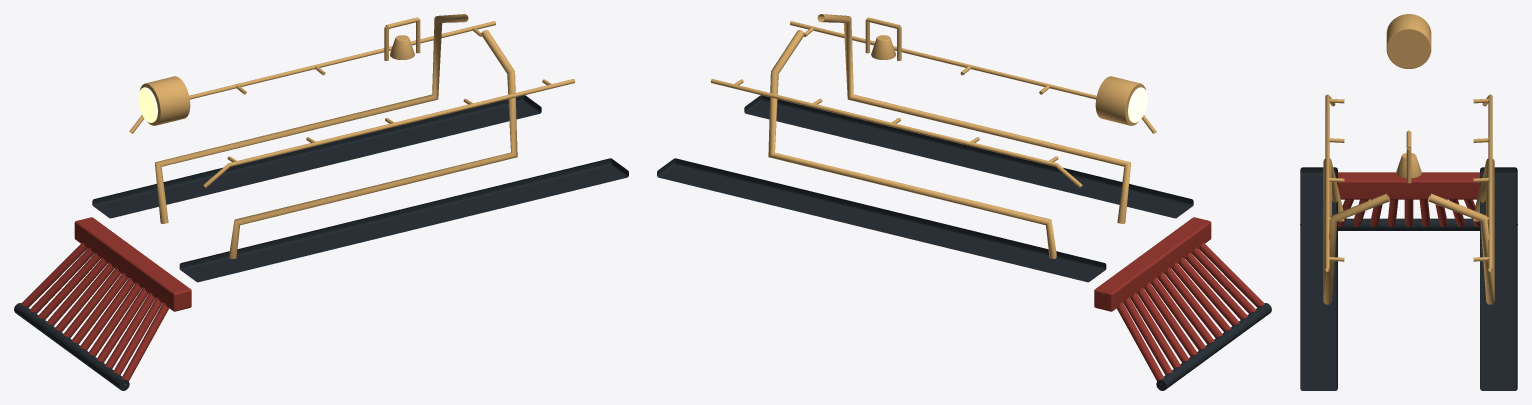
The model's file is fittings-and-pilot.glb.
3 renders of one model, left to right at view 1: azimuth 30°, elevation 25°; view 2: azimuth 150°, elevation 25°; view 3: azimuth 270°, elevation 25°, orthographic. The views are drawn at different scales.
Parts seen in each view (by area): view 1: Running board, Running board.001, Front buffer beam, Steam delivery pipe, Steam delivery pipe.001, Boiler handrail, Pilot lower beam, Headlamp housing, Boiler handrail.001, Cowcatcher slat, Cowcatcher slat.002, Cowcatcher slat.003 (+11 smaller); view 2: Running board.001, Running board, Front buffer beam, Steam delivery pipe.001, Steam delivery pipe, Boiler handrail.001, Pilot lower beam, Headlamp housing, Boiler handrail, Cowcatcher slat.012, Cowcatcher slat.009, Cowcatcher slat.010 (+11 smaller); view 3: Running board.001, Running board, Front buffer beam, Headlamp housing, Steam delivery pipe, Steam delivery pipe.001, Pilot lower beam, Boiler handrail.001, Boiler handrail, Bell, Cowcatcher slat.006, Cowcatcher slat.005 (+2 smaller).
Boxes of the visible parts, x1,y1,x2,y2 form: Running board: [179, 158, 628, 282]; Running board.001: [92, 95, 541, 218]; Front buffer beam: [74, 217, 191, 311]; Steam delivery pipe: [229, 30, 517, 258]; Steam delivery pipe.001: [155, 14, 468, 223]; Boiler handrail: [203, 79, 575, 187]; Pilot lower beam: [14, 303, 129, 390]; Headlamp housing: [140, 76, 190, 125]; Boiler handrail.001: [129, 21, 495, 133]; Cowcatcher slat: [121, 302, 168, 385]; Cowcatcher slat.002: [105, 292, 155, 368]; Cowcatcher slat.003: [96, 287, 148, 362]; Running board.001: [657, 158, 1106, 282]; Running board: [744, 95, 1193, 218]; Front buffer beam: [1094, 217, 1211, 311]; Steam delivery pipe.001: [768, 30, 1056, 258]; Steam delivery pipe: [817, 14, 1130, 223]; Boiler handrail.001: [710, 79, 1082, 187]; Pilot lower beam: [1156, 303, 1271, 390]; Headlamp housing: [1095, 76, 1145, 125]; Boiler handrail: [790, 21, 1156, 133]; Cowcatcher slat.012: [1117, 302, 1164, 385]; Cowcatcher slat.009: [1137, 287, 1189, 362]; Cowcatcher slat.010: [1130, 292, 1180, 368]; Running board.001: [1480, 167, 1517, 390]; Running board: [1300, 167, 1337, 390]; Front buffer beam: [1338, 172, 1479, 199]; Headlamp housing: [1386, 14, 1431, 68]; Steam delivery pipe: [1323, 158, 1389, 304]; Steam delivery pipe.001: [1428, 158, 1494, 304]; Pilot lower beam: [1338, 218, 1479, 230]; Boiler handrail.001: [1482, 94, 1492, 271]; Boiler handrail: [1325, 94, 1335, 271]; Bell: [1396, 153, 1421, 178]; Cowcatcher slat.006: [1404, 199, 1413, 226]; Cowcatcher slat.005: [1387, 199, 1398, 226].
Size of the model in its own units: 6.49 by 3.04 by 2.33.
